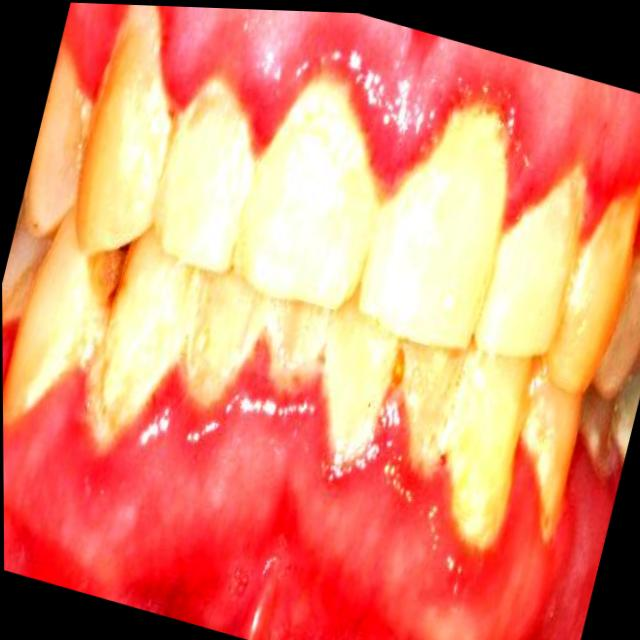gingivitis: (3, 372, 614, 640), (159, 6, 640, 236)
